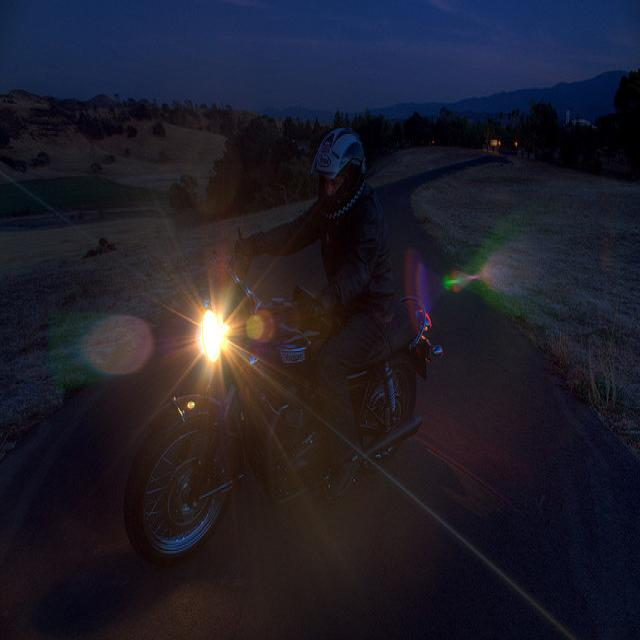Motorbike: (100, 294, 465, 562)
